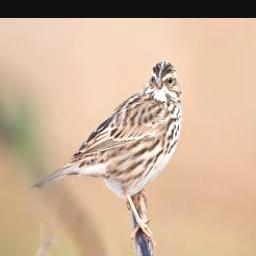Sparrow: (31, 60, 182, 249)
